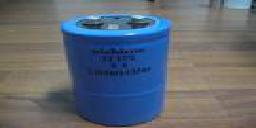Electrolytic-Capacitor: (62, 13, 172, 127)
